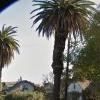Palm tree: (30, 0, 85, 95)
